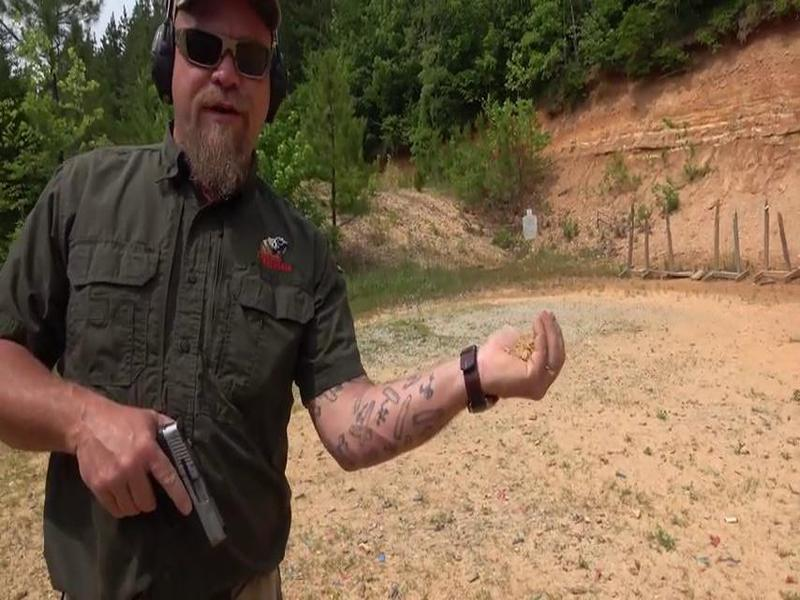Pistola: (110, 385, 247, 572)
